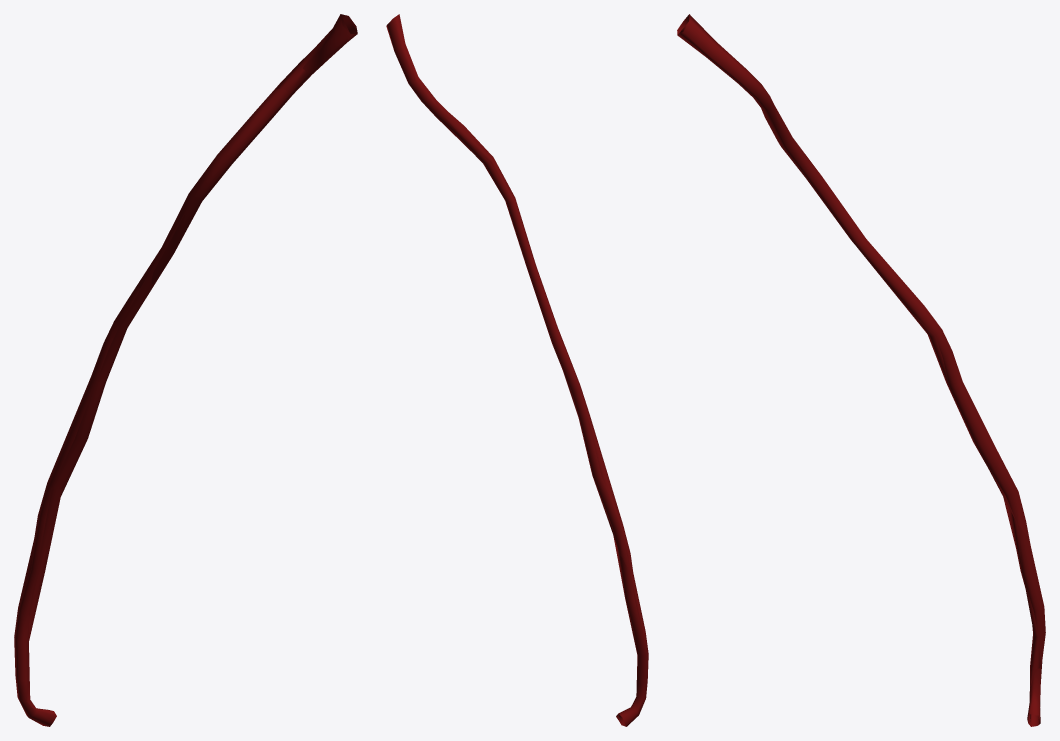
The model's file is R radialis.fbx.
3 views of the same model, side by side, from view 1: azimuth 30°, elevation 25°; view 2: azimuth 210°, elevation 25°; view 3: azimuth 270°, elevation 25° (orthographic). The views are drawn at different scales.
Parts seen in each view (by area): view 1: R radialis, R radialis low; view 2: R radialis, R radialis low; view 3: R radialis, R radialis low.
Boxes of the visible parts, x1,y1,x2,y2 form: R radialis: [14, 14, 357, 726]; R radialis low: [15, 15, 357, 710]; R radialis: [386, 14, 648, 726]; R radialis low: [393, 16, 648, 725]; R radialis: [677, 14, 1045, 726]; R radialis low: [677, 14, 1043, 725].
Bounding box in the file's own units: 3.66 × 18.67 × 8.2.
